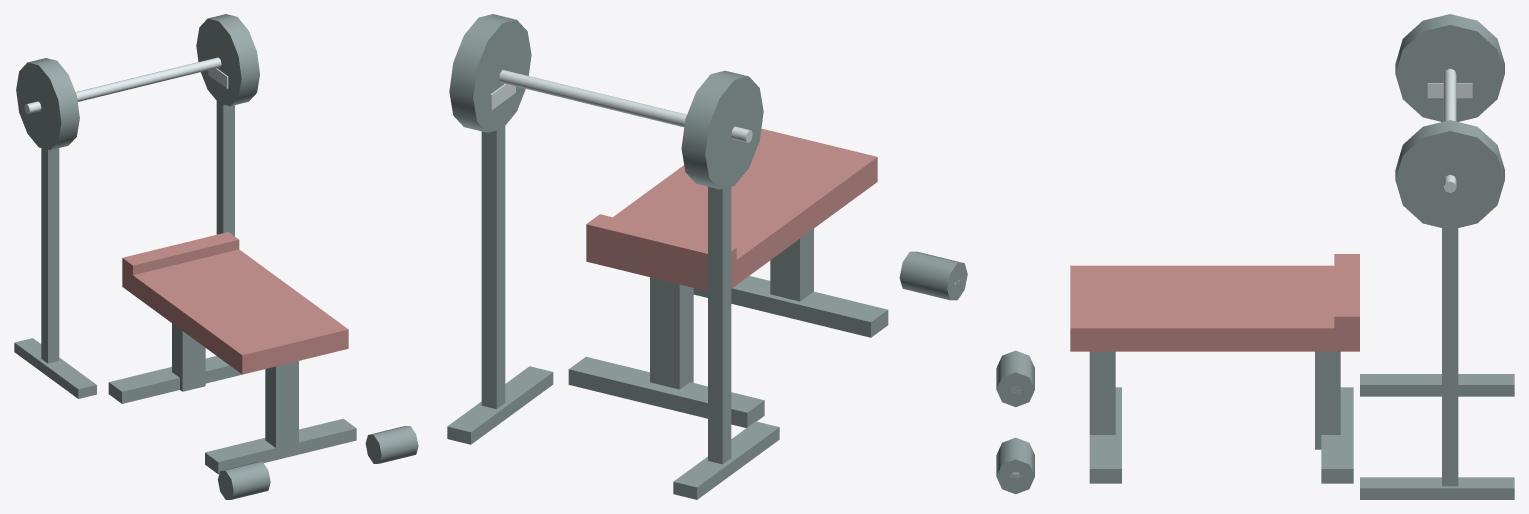
The model's file is weightBench.glb.
3 views of the same model, side by side, from view 1: azimuth 30°, elevation 25°; view 2: azimuth 150°, elevation 25°; view 3: azimuth 270°, elevation 25° (orthographic). The views are drawn at different scales.
Visible parts, largest first — view 1: weightBench; view 2: weightBench; view 3: weightBench.
Boxes of the visible parts, bbox=[...] form: weightBench: bbox=[14, 14, 418, 499]; weightBench: bbox=[447, 14, 967, 499]; weightBench: bbox=[996, 14, 1514, 499].
Size of the model in its own units: 0.48 by 0.635 by 0.805.
